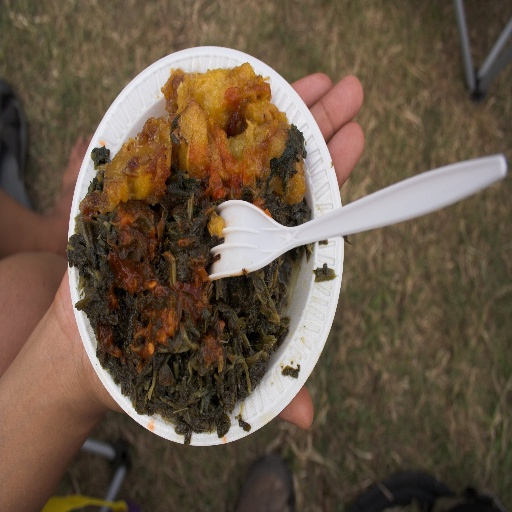hand: (54, 71, 363, 432), (55, 130, 95, 261)
